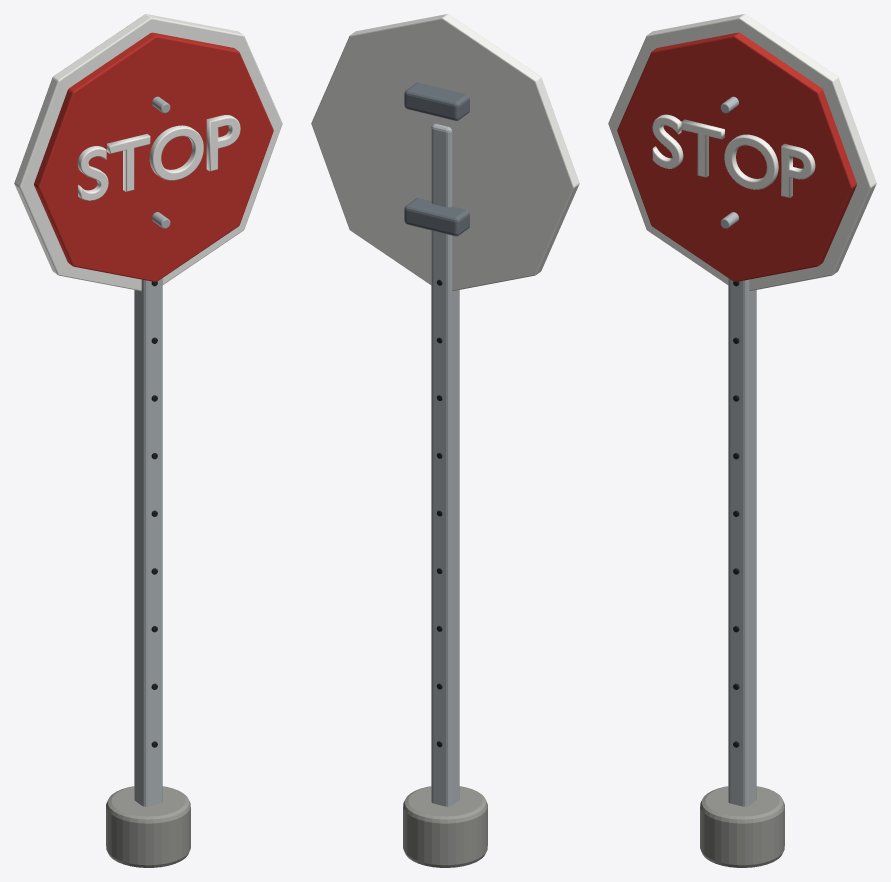
File: prop_starter_stop_sign_a_v01.glb
The picture shows the model from 3 angles, left to right: view 1: azimuth 30°, elevation 25°; view 2: azimuth 150°, elevation 25°; view 3: azimuth 330°, elevation 25°; orthographic projection.
Visible parts, largest first — view 1: component__white_border__red_inner_face, component__perforated_post__perforated_post, component__octagonal_sign_face__octagonal_sign_face, component__footing_collar__footing_collar, component__stop_lettering__stop_lettering; view 2: component__octagonal_sign_face__octagonal_sign_face, component__perforated_post__perforated_post, component__footing_collar__footing_collar, component__rear_brackets__rear_bracket_upper, component__rear_brackets__rear_bracket_lower; view 3: component__white_border__red_inner_face, component__perforated_post__perforated_post, component__octagonal_sign_face__octagonal_sign_face, component__footing_collar__footing_collar, component__stop_lettering__stop_lettering.
Boxes of the visible parts, bbox=[...] form: component__white_border__red_inner_face: bbox=[34, 32, 273, 281]; component__perforated_post__perforated_post: bbox=[134, 278, 162, 806]; component__octagonal_sign_face__octagonal_sign_face: bbox=[14, 14, 282, 290]; component__footing_collar__footing_collar: bbox=[106, 786, 190, 867]; component__stop_lettering__stop_lettering: bbox=[77, 115, 240, 200]; component__octagonal_sign_face__octagonal_sign_face: bbox=[311, 14, 579, 290]; component__perforated_post__perforated_post: bbox=[431, 123, 459, 806]; component__footing_collar__footing_collar: bbox=[403, 786, 487, 867]; component__rear_brackets__rear_bracket_upper: bbox=[404, 82, 469, 120]; component__rear_brackets__rear_bracket_lower: bbox=[404, 198, 469, 236]; component__white_border__red_inner_face: bbox=[617, 32, 856, 281]; component__perforated_post__perforated_post: bbox=[728, 278, 756, 806]; component__octagonal_sign_face__octagonal_sign_face: bbox=[608, 14, 876, 290]; component__footing_collar__footing_collar: bbox=[700, 786, 784, 867]; component__stop_lettering__stop_lettering: bbox=[652, 114, 815, 197].
Bounding box in the file's own units: 0.8584 × 2.61 × 0.24.
